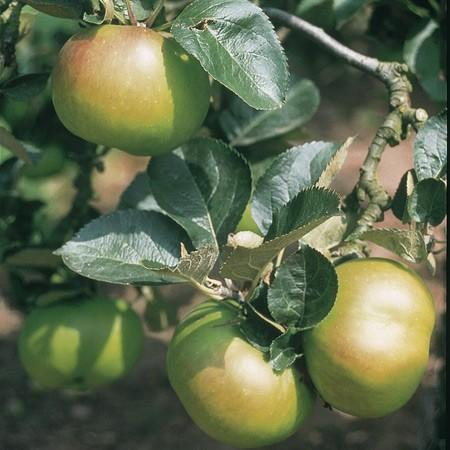apple: (310, 260, 442, 417), (54, 23, 209, 156), (166, 309, 312, 445), (17, 295, 144, 389)
